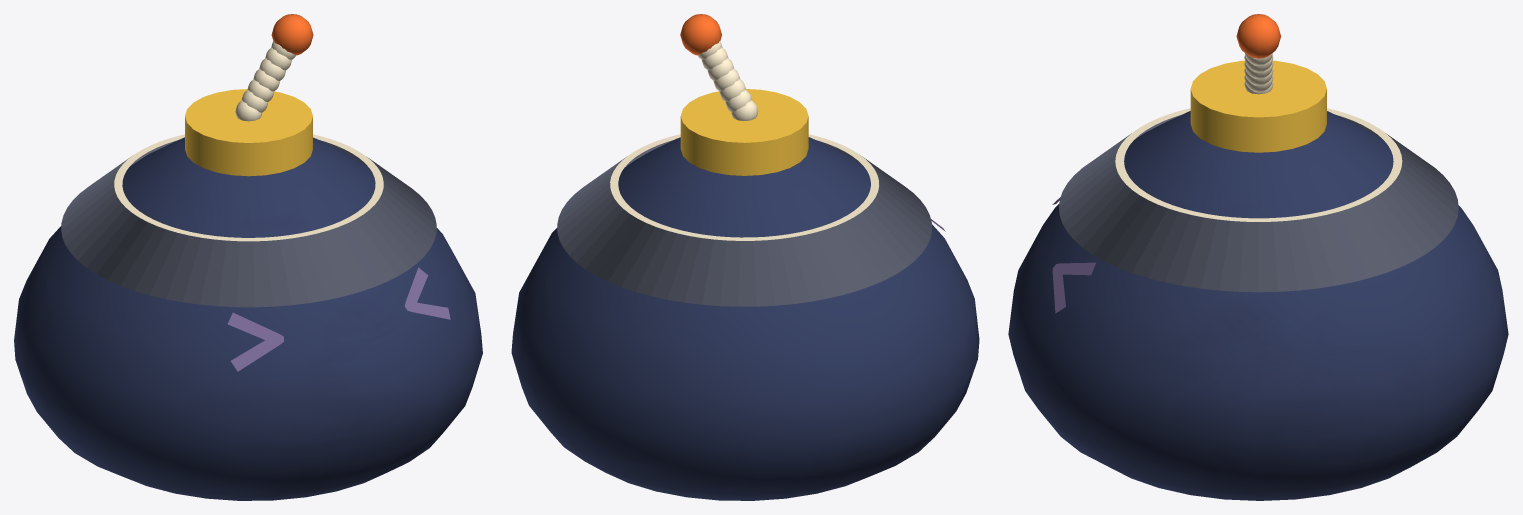
File: player_copy_bomb_hurt.gltf
3 views of the same model, side by side, from view 1: azimuth 30°, elevation 25°; view 2: azimuth 150°, elevation 25°; view 3: azimuth 270°, elevation 25° (orthographic). The views are drawn at different scales.
Visible parts, largest first — view 1: Slime_Slime_0, PlayerCopyBand_bomb; view 2: Slime_Slime_0, PlayerCopyBand_bomb; view 3: Slime_Slime_0, PlayerCopyBand_bomb.
Part boxes in pixels (x1=…): Slime_Slime_0: x1=14, y1=137, x2=482, y2=500; PlayerCopyBand_bomb: x1=61, y1=14, x2=436, y2=307; Slime_Slime_0: x1=511, y1=137, x2=979, y2=500; PlayerCopyBand_bomb: x1=557, y1=14, x2=931, y2=306; Slime_Slime_0: x1=1008, y1=111, x2=1508, y2=500; PlayerCopyBand_bomb: x1=1059, y1=14, x2=1458, y2=292.
Size of the model in its own units: 1.03 by 1 by 1.03.
6 materials, 1 textured.
